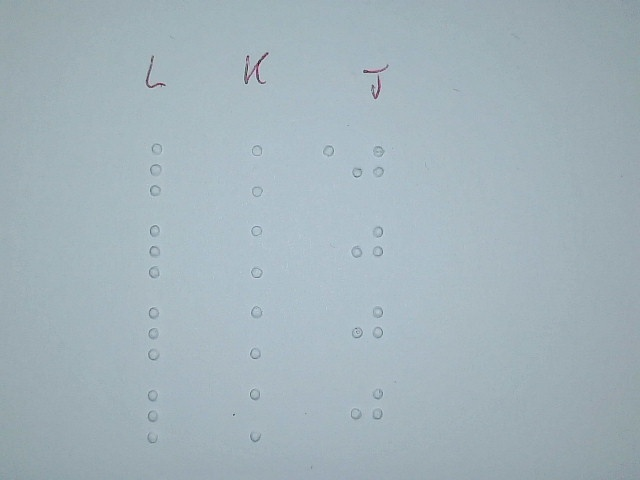J: (350, 136, 387, 195), (349, 217, 386, 276), (349, 296, 386, 355), (348, 379, 385, 438)
K: (241, 139, 287, 202), (242, 220, 288, 283), (241, 301, 287, 364), (241, 383, 287, 446)
L: (140, 137, 186, 200), (138, 219, 184, 282), (138, 301, 184, 364), (137, 385, 183, 448)
